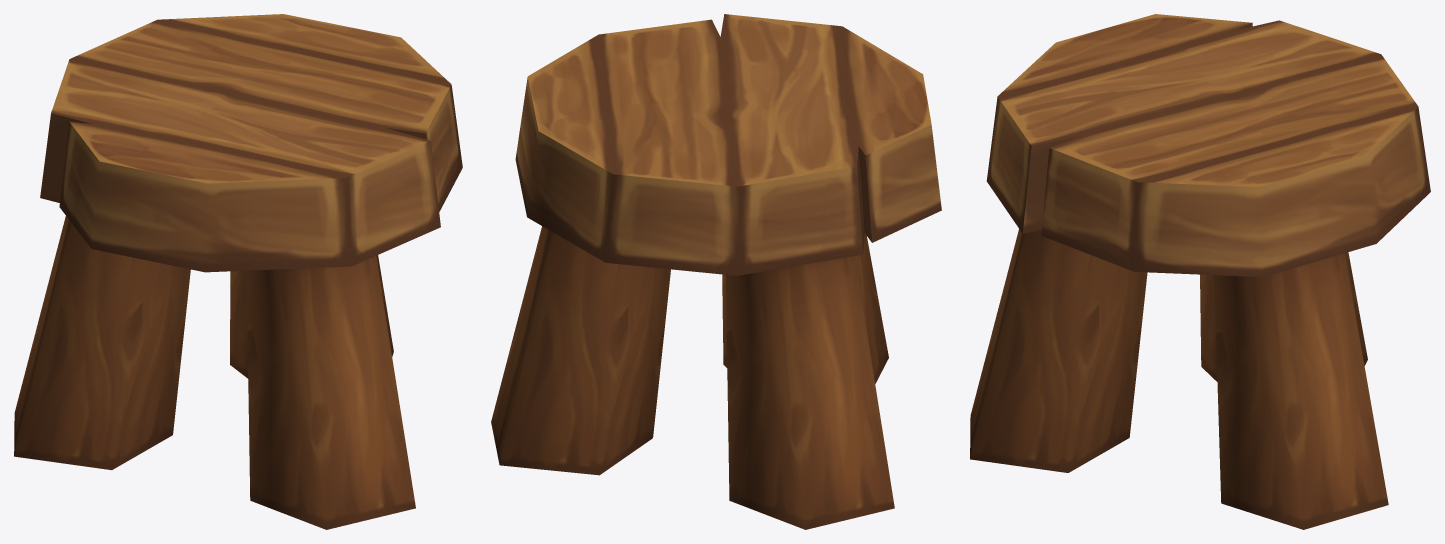
The model's file is Stool.fbx.
3 renders of one model, left to right at view 1: azimuth 30°, elevation 25°; view 2: azimuth 150°, elevation 25°; view 3: azimuth 270°, elevation 25°, orthographic.
Visible parts, largest first — view 1: Stool; view 2: Stool; view 3: Stool.
Boxes of the visible parts, box(x1,y1,x2,y2) form: Stool: box(14, 14, 462, 529); Stool: box(491, 14, 941, 529); Stool: box(970, 14, 1430, 529).
Size of the model in its own units: 0.7688 by 0.6255 by 0.7786.
